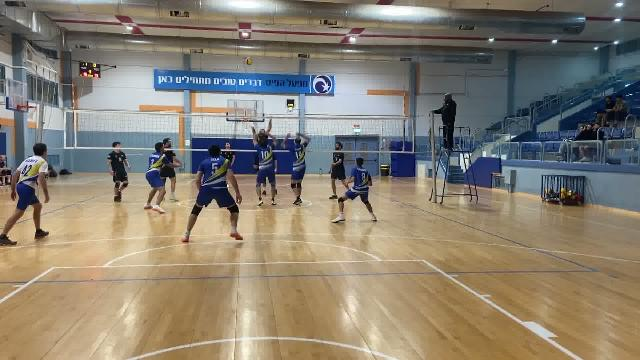ball: (245, 57, 255, 69)
